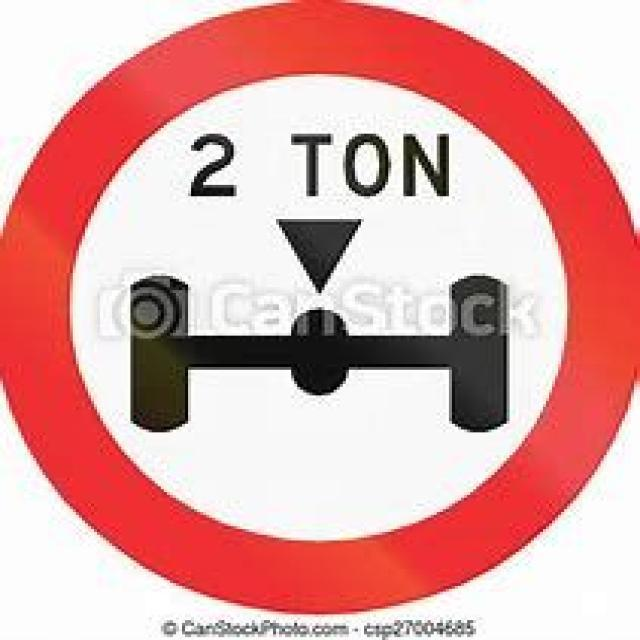axle load limit: (14, 11, 632, 610)
